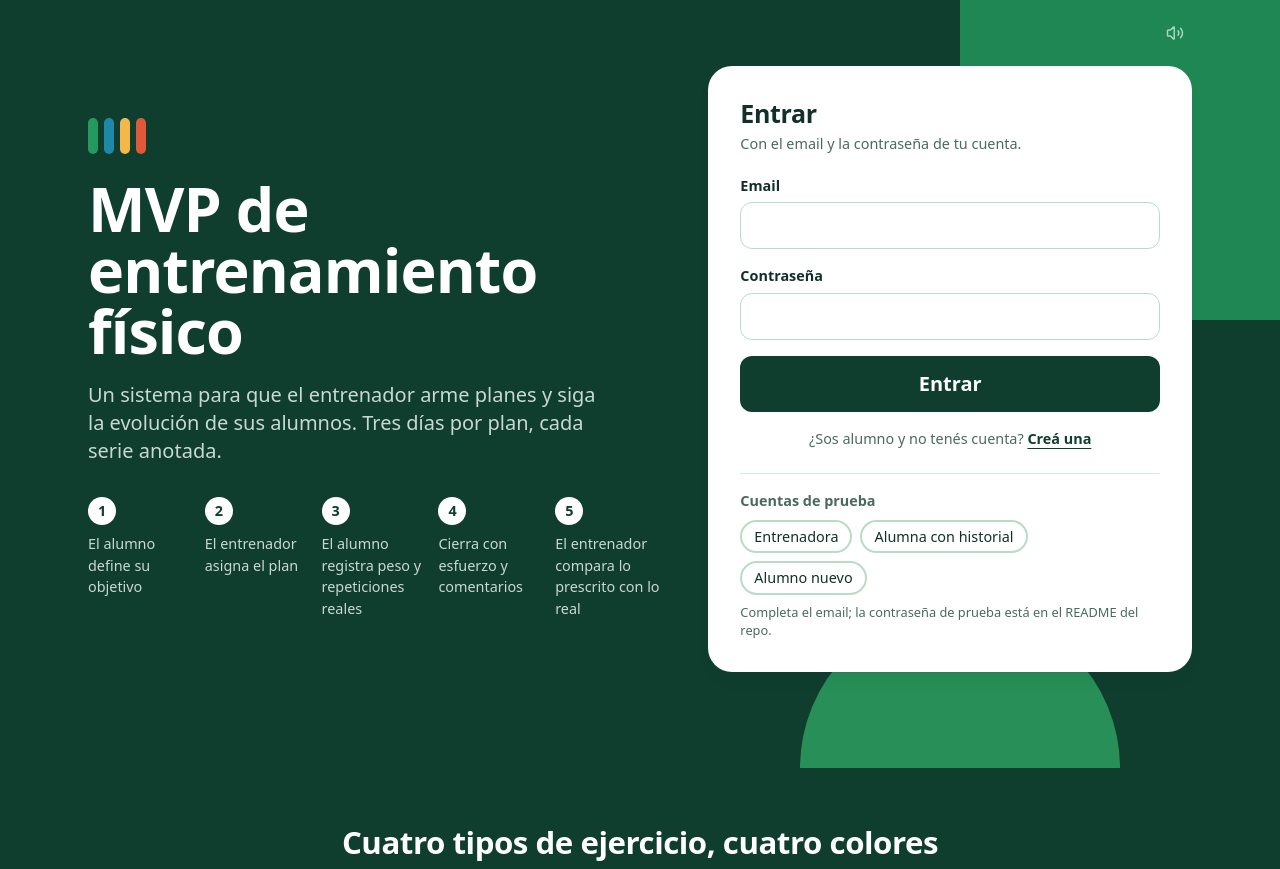
Test: ingreso › muestra el error del servidor si la contraseña no es correcta
In the field labelled "Email": (950, 226) x1=740 y1=202 x2=1160 y2=249, type "martina@entrenamiento.test"
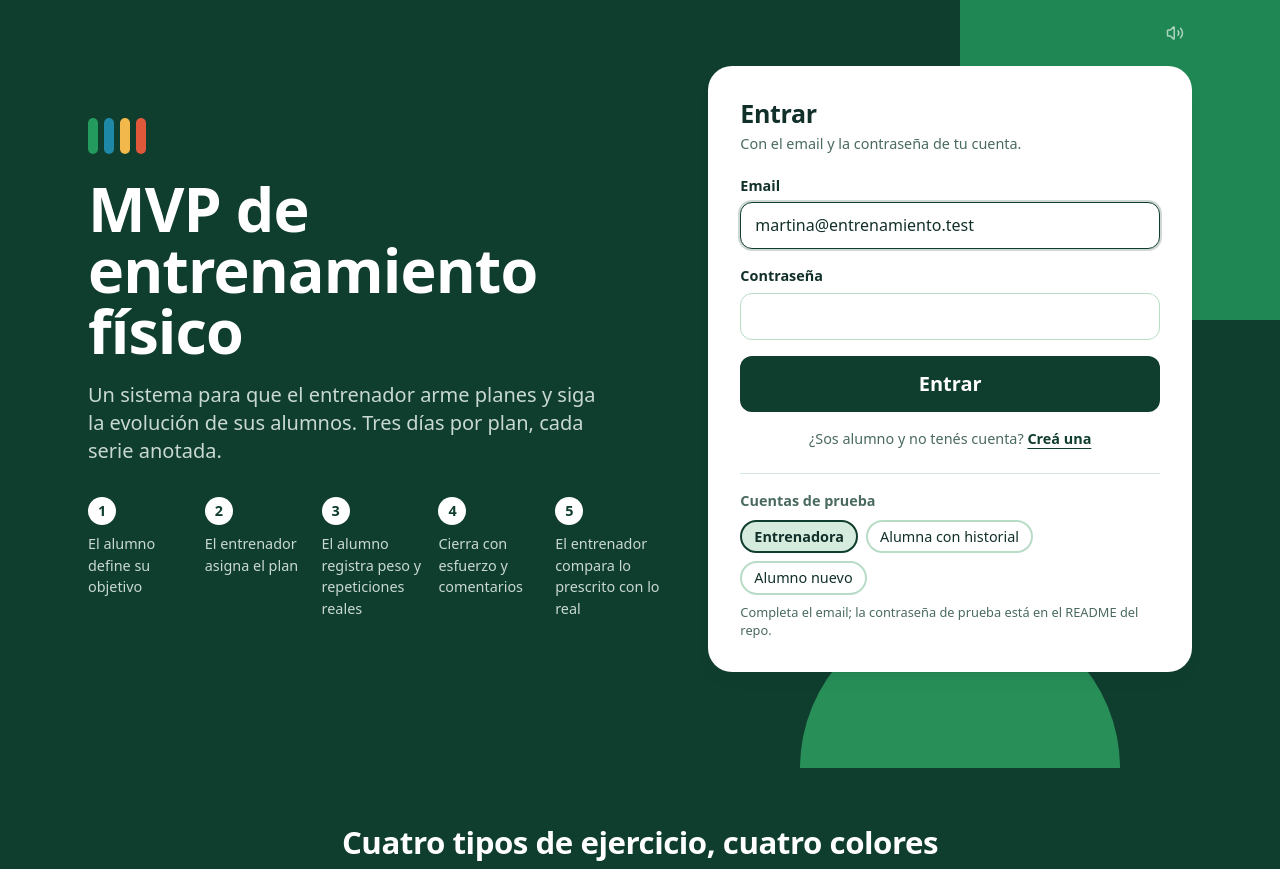
In the password field labelled "Contraseña": (950, 316) x1=740 y1=293 x2=1160 y2=340, type "otra-cosa"
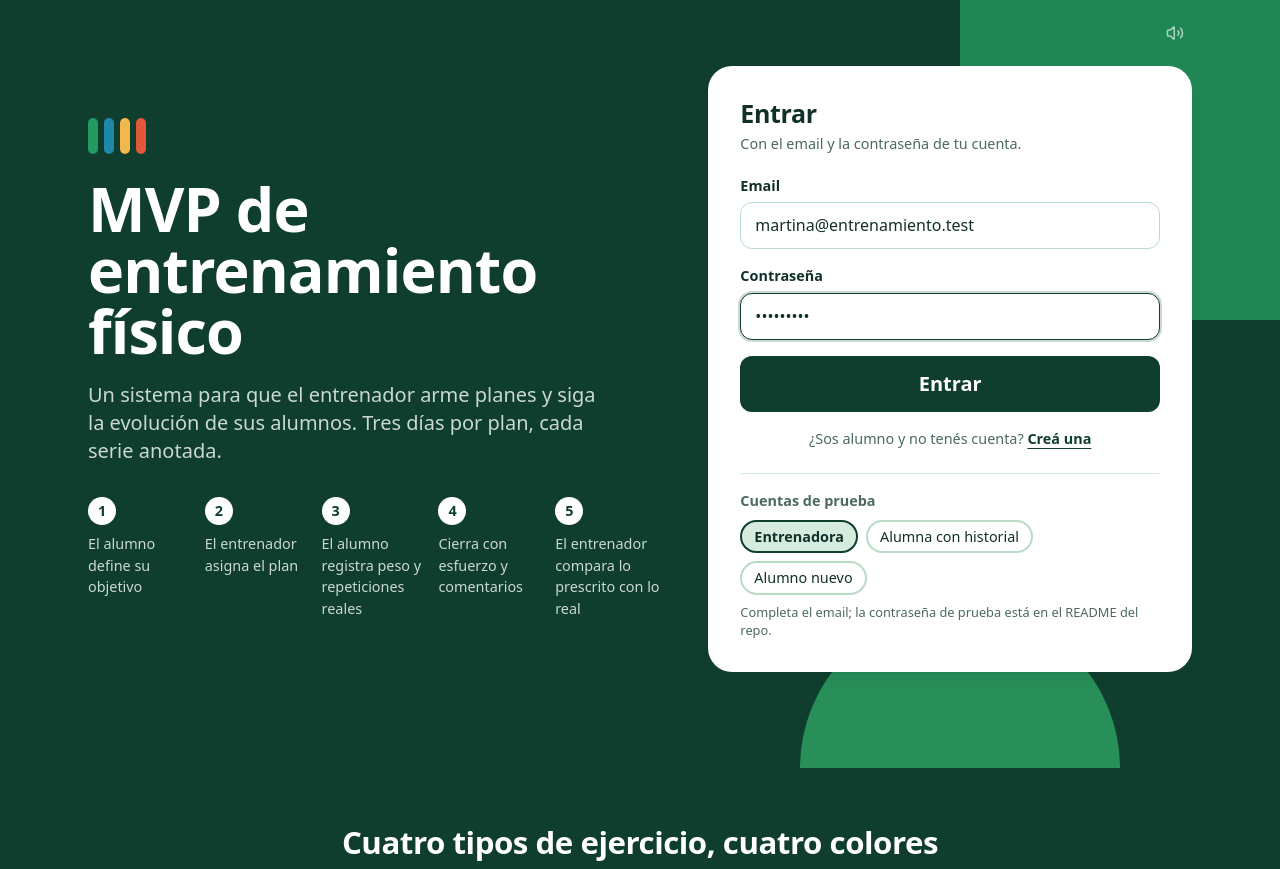
Click the button "Entrar": (950, 384) x1=740 y1=356 x2=1160 y2=412
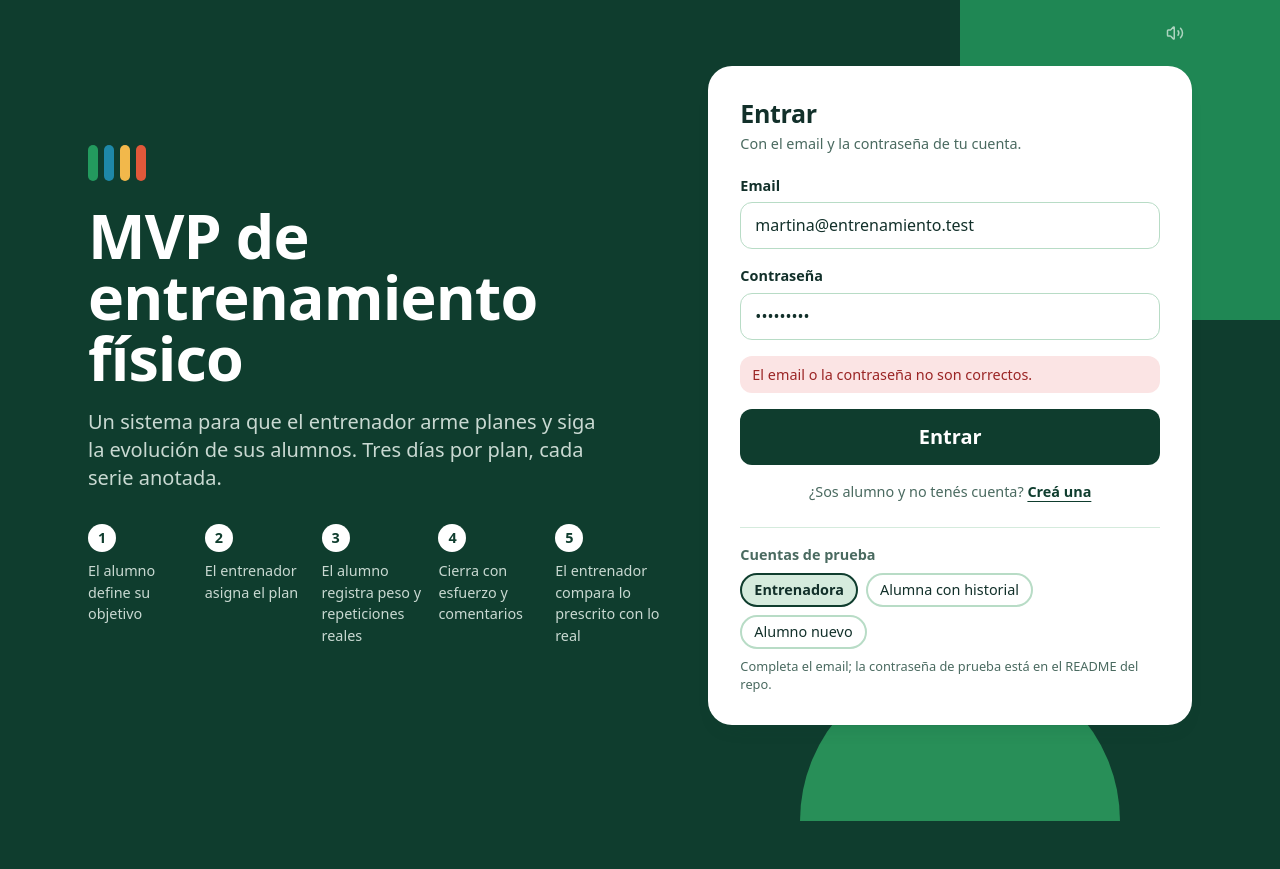
Check: the text "El email o la contraseña no son correctos." is shown, box x1=740 y1=356 x2=1160 y2=393
